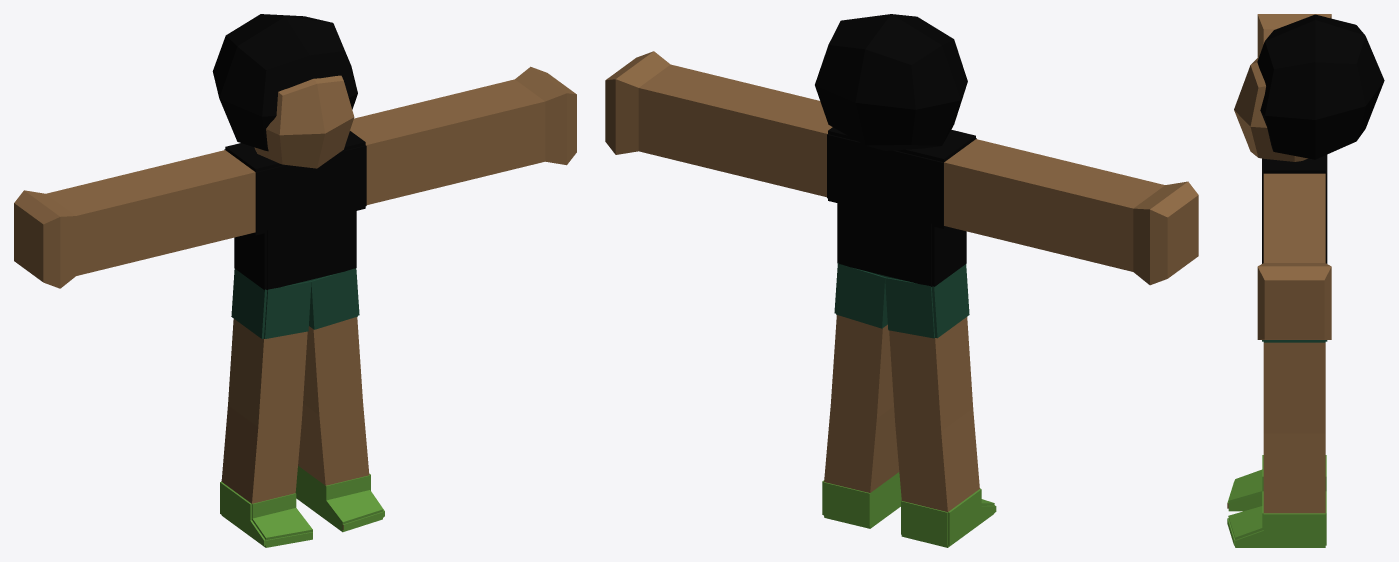
The model's file is blackGuy.glb.
3 views of the same model, side by side, from view 1: azimuth 30°, elevation 25°; view 2: azimuth 150°, elevation 25°; view 3: azimuth 270°, elevation 25° (orthographic). The views are drawn at different scales.
Parts seen in each view (by area): view 1: Body; view 2: Body; view 3: Body.
Boxes of the visible parts, <box> form: Body: <box>14,14,576,547</box>; Body: <box>605,14,1198,547</box>; Body: <box>1227,14,1384,547</box>.
Bounding box in the file's own units: 2 × 1.75 × 0.5.
